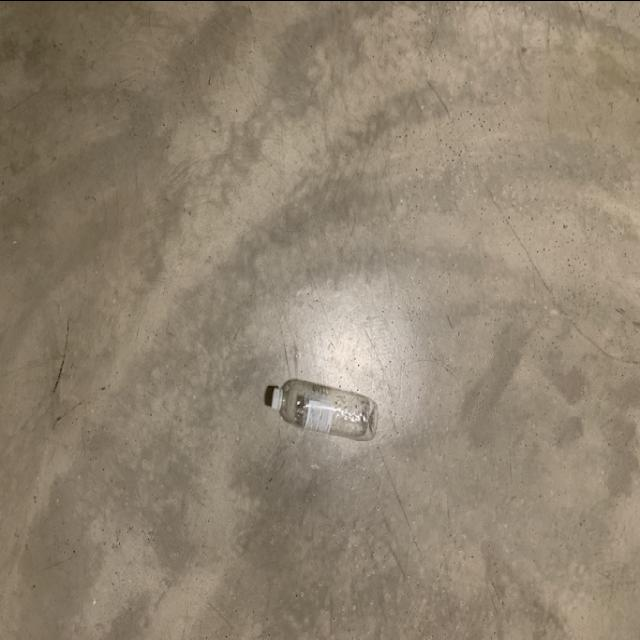litter: (265, 375, 383, 445)
